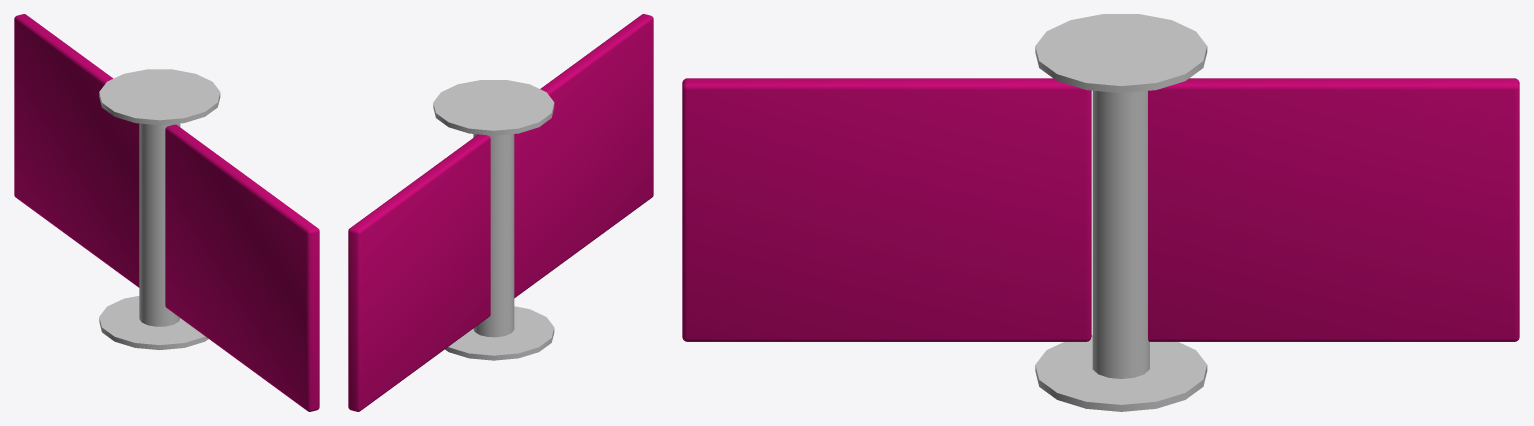
Rendered from trap_02.fbx.
3 renders of one model, left to right at view 1: azimuth 30°, elevation 25°; view 2: azimuth 150°, elevation 25°; view 3: azimuth 270°, elevation 25°, orthographic. The views are drawn at different scales.
Parts seen in each view (by area): view 1: trap_1, trap, base, upper, lower; view 2: trap, trap_1, upper, base, lower; view 3: trap_1, trap, base, upper, lower.
Part boxes in pixels (left/top/right/bottom): trap_1: left=165, top=124, right=319, bottom=411; trap: left=14, top=14, right=139, bottom=287; base: left=139, top=123, right=180, bottom=326; upper: left=99, top=69, right=220, bottom=125; lower: left=99, top=296, right=208, bottom=349; trap: left=348, top=134, right=490, bottom=411; trap_1: left=514, top=14, right=653, bottom=298; upper: left=433, top=80, right=554, bottom=135; base: left=473, top=134, right=514, bottom=337; lower: left=445, top=306, right=554, bottom=360; trap_1: left=682, top=78, right=1091, bottom=341; trap: left=1148, top=78, right=1519, bottom=341; base: left=1092, top=90, right=1149, bottom=378; upper: left=1035, top=14, right=1207, bottom=93; lower: left=1035, top=335, right=1207, bottom=411.
Bounding box in the file's own units: 98.91 × 208 × 485.
